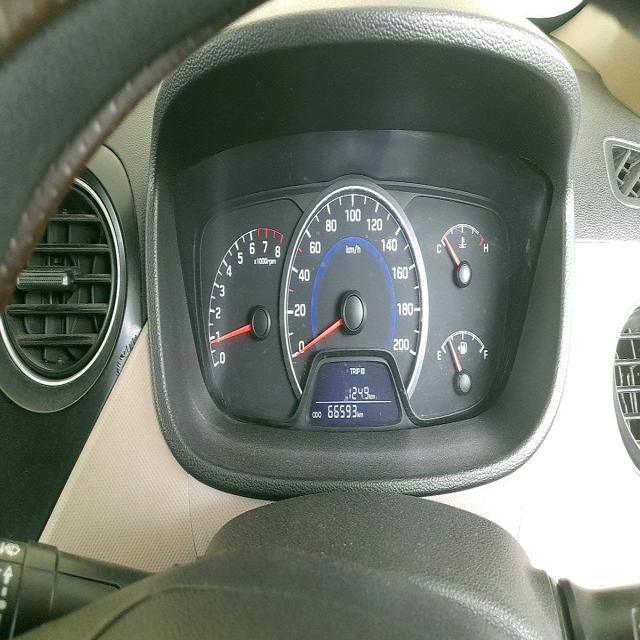odometer: (326, 402, 357, 420)
